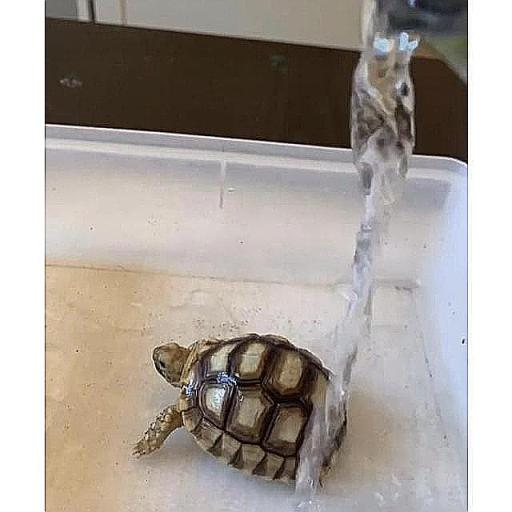turtle: (124, 332, 358, 486)
